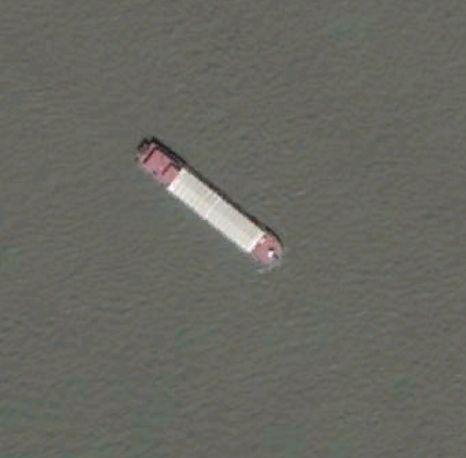Boat: (117, 113, 294, 300)
